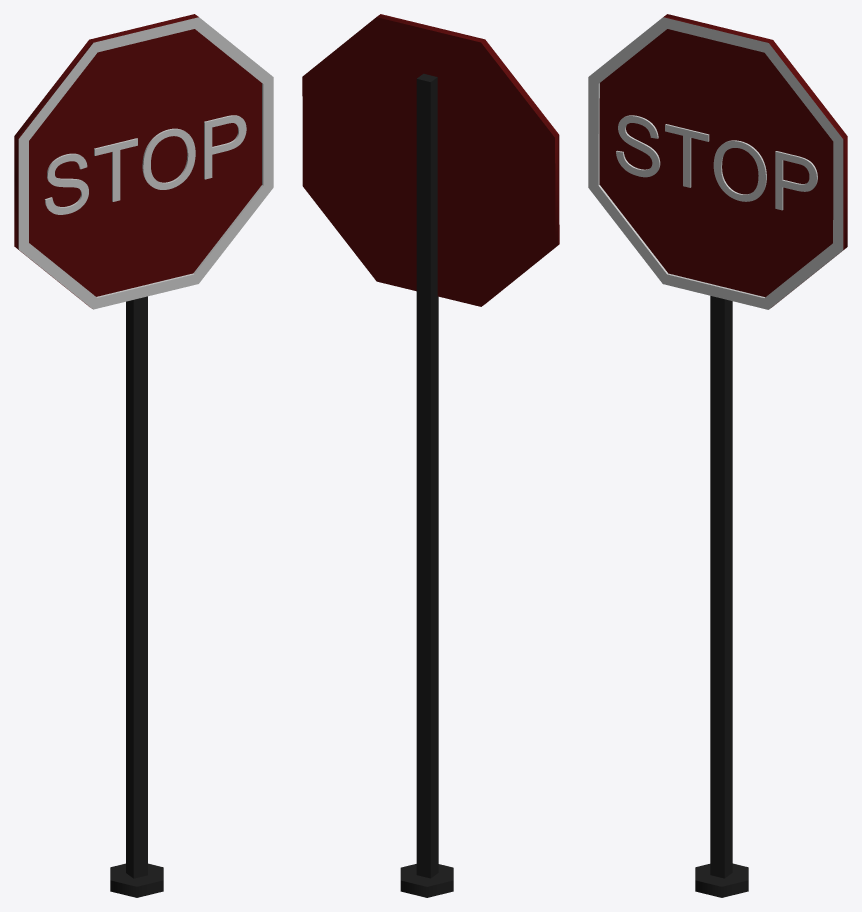
File: Props6.fbx
3 renders of one model, left to right at view 1: azimuth 30°, elevation 25°; view 2: azimuth 150°, elevation 25°; view 3: azimuth 330°, elevation 25°, orthographic.
Parts seen in each view (by area): view 1: Props6; view 2: Props6; view 3: Props6.
Part boxes in pixels (<box>): Props6: <box>14,14,273,897</box>; Props6: <box>302,14,559,897</box>; Props6: <box>588,14,847,897</box>.
Size of the model in its own units: 2.85 by 9.17 by 0.5148.
